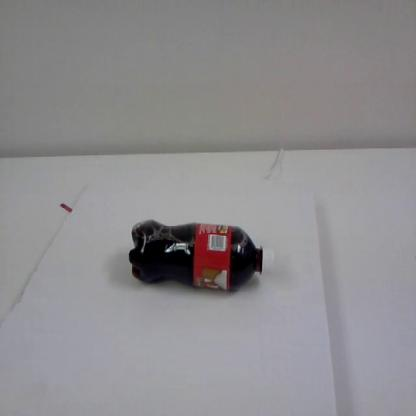bottle: (126, 218, 276, 298)
